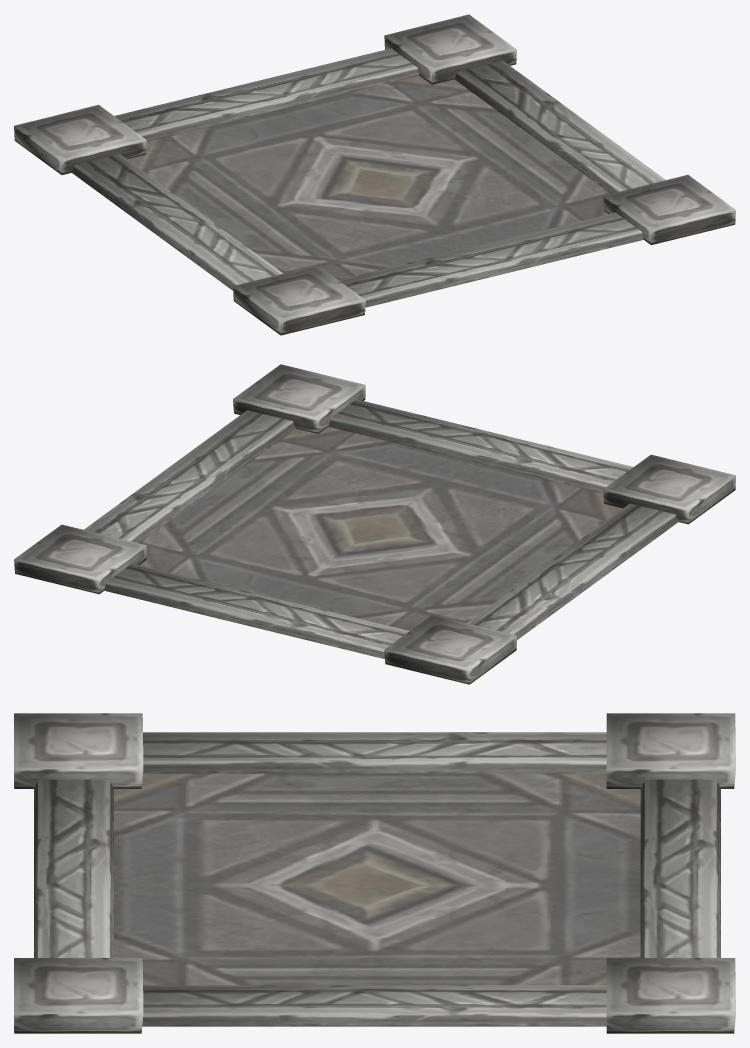
Rendered from unity_dungeon_tile02.FBX.
3 renders of one model, top to bottom at view 1: azimuth 30°, elevation 25°; view 2: azimuth 150°, elevation 25°; view 3: azimuth 270°, elevation 25°, orthographic. The views are drawn at different scales.
Parts seen in each view (by area): view 1: unity_dungeon_tile02; view 2: unity_dungeon_tile02; view 3: unity_dungeon_tile02.
Part boxes in pixels (box(x1,y1,x2,y2)): unity_dungeon_tile02: box(14, 14, 735, 335); unity_dungeon_tile02: box(14, 364, 735, 684); unity_dungeon_tile02: box(14, 713, 735, 1033).
Bounding box in the file's own units: 5.41 × 0.1689 × 5.49.
